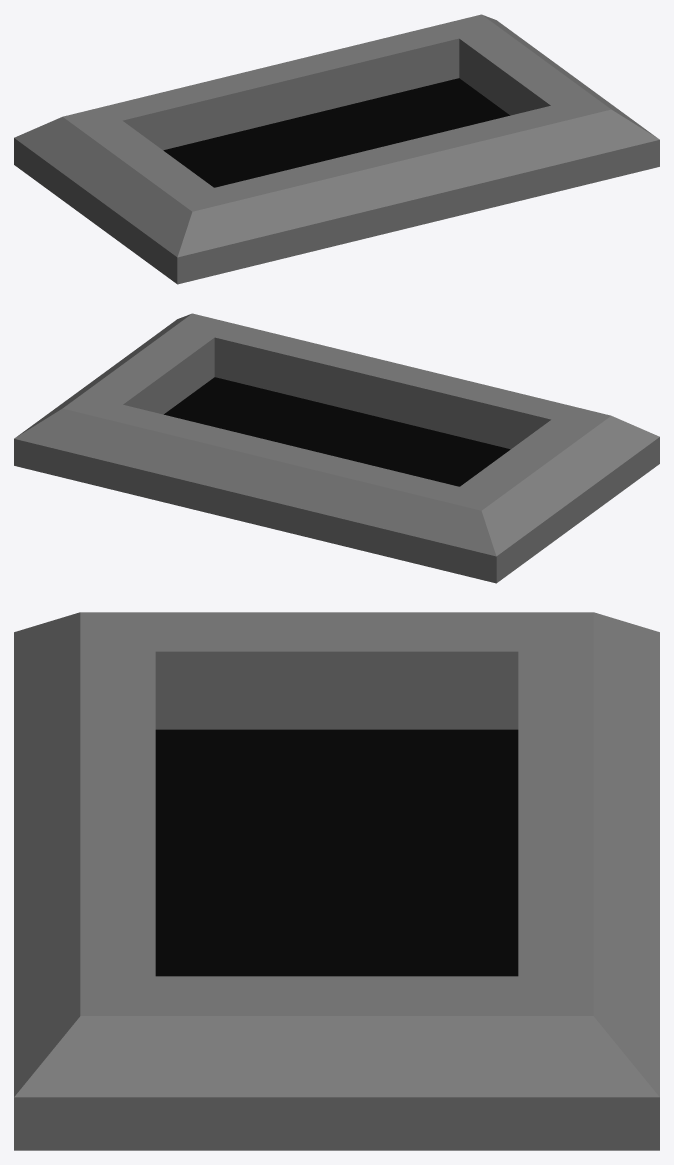
File: ChainLinkHousingStone.fbx
3 views of the same model, one above another, from view 1: azimuth 30°, elevation 25°; view 2: azimuth 150°, elevation 25°; view 3: azimuth 270°, elevation 25° (orthographic). The views are drawn at different scales.
Parts seen in each view (by area): view 1: ChainLinkHousingStone; view 2: ChainLinkHousingStone; view 3: ChainLinkHousingStone.
Boxes of the visible parts, x1,y1,x2,y2 form: ChainLinkHousingStone: [14, 14, 659, 284]; ChainLinkHousingStone: [14, 313, 659, 583]; ChainLinkHousingStone: [14, 612, 659, 1150].
Size of the model in its own units: 40.23 by 4.2 by 23.61.
